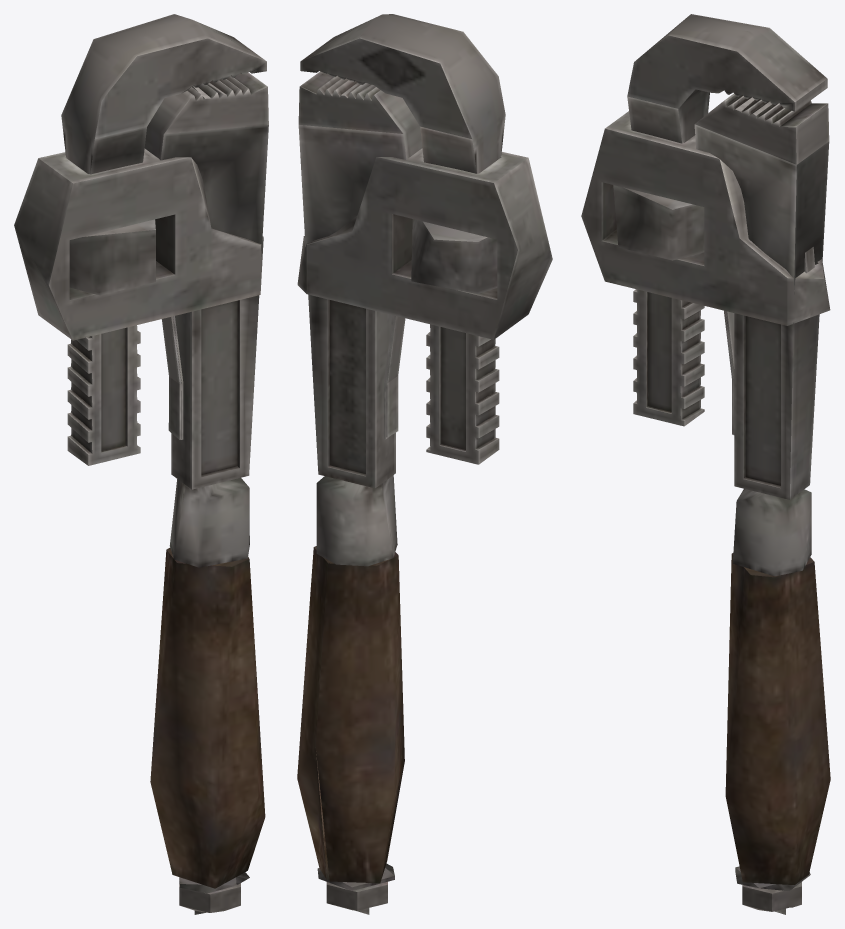
Rendered from wrench-low.glb.
The picture shows the model from 3 angles, left to right: view 1: azimuth 30°, elevation 25°; view 2: azimuth 150°, elevation 25°; view 3: azimuth 330°, elevation 25°; orthographic projection. The views are drawn at different scales.
Parts seen in each view (by area): view 1: adjustable_wrench_jaw; view 2: adjustable_wrench_jaw; view 3: adjustable_wrench_jaw.
Part boxes in pixels (x1=…): adjustable_wrench_jaw: x1=14, y1=14, x2=268, y2=914; adjustable_wrench_jaw: x1=297, y1=14, x2=552, y2=914; adjustable_wrench_jaw: x1=581, y1=14, x2=830, y2=914.
Bounding box in the file's own units: 0.068 × 0.2522 × 0.0288.
1 material, 1 textured.
